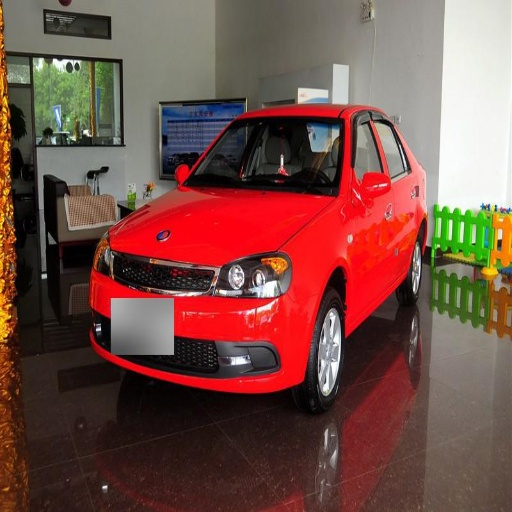back_left_door: (372, 111, 417, 281)
front_bumper: (92, 250, 321, 393)
front_glass: (181, 116, 342, 195)
front_left_door: (348, 110, 393, 315)
